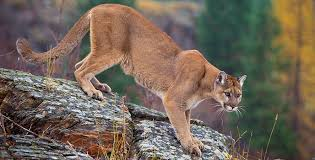Mountain Lion: (82, 8, 246, 152), (186, 50, 252, 115)
